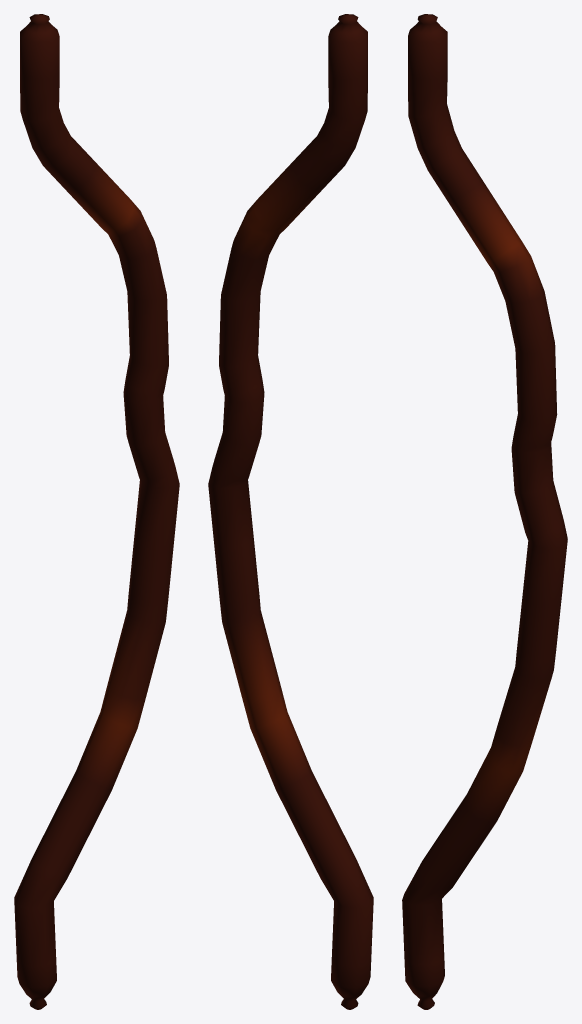
File: missboog3.fbx
The picture shows the model from 3 angles, left to right: view 1: azimuth 30°, elevation 25°; view 2: azimuth 150°, elevation 25°; view 3: azimuth 330°, elevation 25°; orthographic projection.
Parts seen in each view (by area): view 1: Cylinder; view 2: Cylinder; view 3: Cylinder.
Boxes of the visible parts, <box> form: Cylinder: <box>14,14,179,1009</box>; Cylinder: <box>208,14,373,1009</box>; Cylinder: <box>402,14,567,1009</box>.
Size of the model in its own units: 78.55 by 462 by 17.32.
